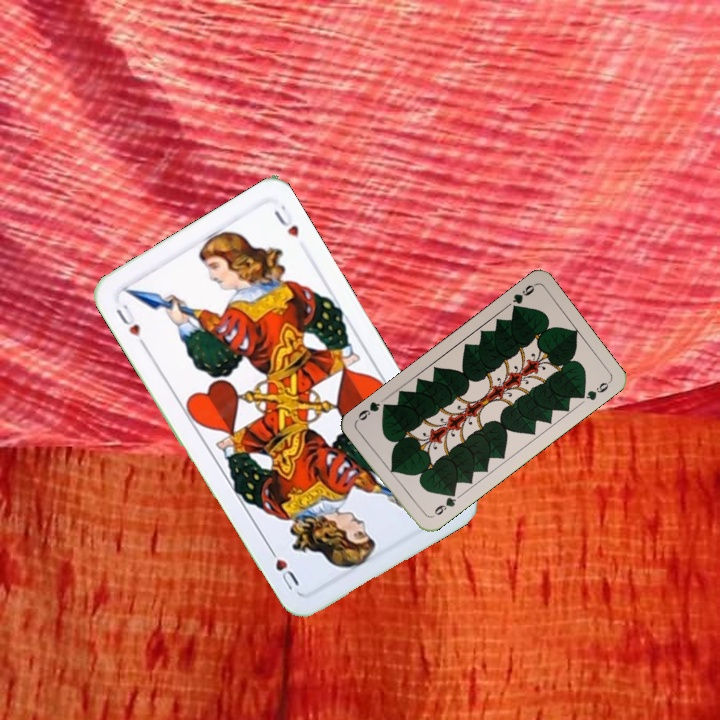G9: (426, 487, 459, 520), (508, 280, 538, 315)
HU: (111, 300, 149, 350)
